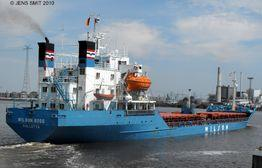Cargoship: (7, 13, 262, 145)
